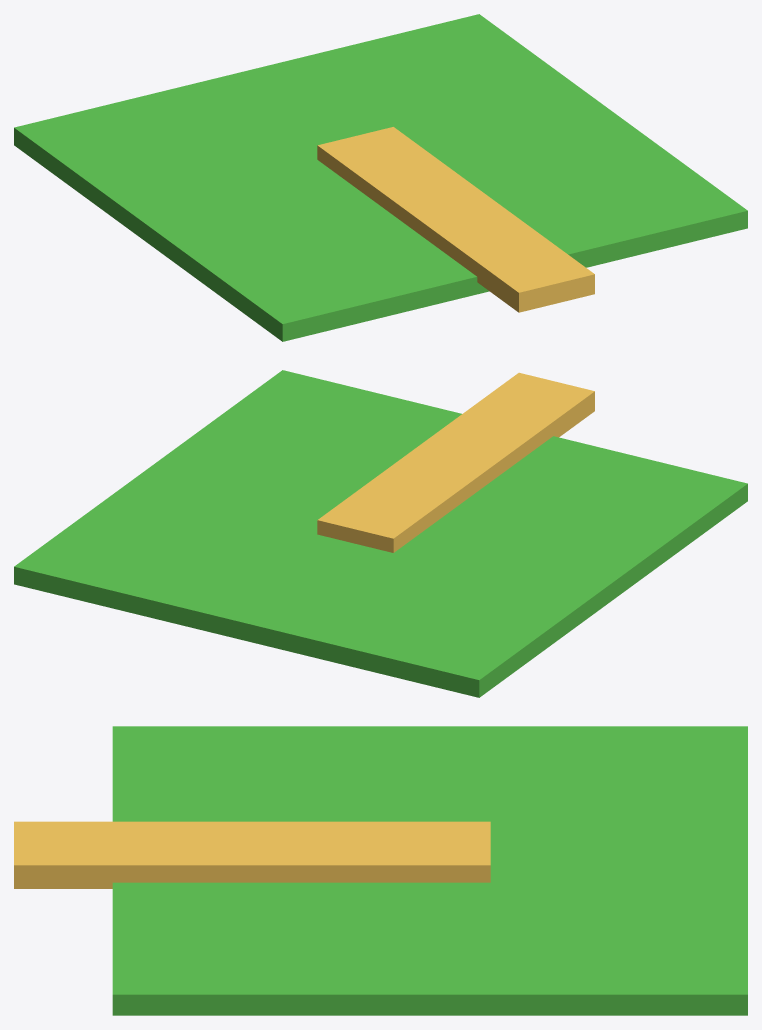
Rendered from marker.cover_hint.glb.
3 views of the same model, one above another, from view 1: azimuth 30°, elevation 25°; view 2: azimuth 150°, elevation 25°; view 3: azimuth 270°, elevation 25° (orthographic). The views are drawn at different scales.
Visible parts, largest first — view 1: marker_disc, facing_tick; view 2: marker_disc, facing_tick; view 3: marker_disc, facing_tick.
Part boxes in pixels (<box>): marker_disc: <box>14,14,747,341</box>; facing_tick: <box>317,127,594,312</box>; marker_disc: <box>14,370,747,697</box>; facing_tick: <box>317,372,594,552</box>; marker_disc: <box>112,726,747,1015</box>; facing_tick: <box>14,821,490,888</box>.
Bounding box in the file's own units: 1.1 × 0.0725 × 1.27.
